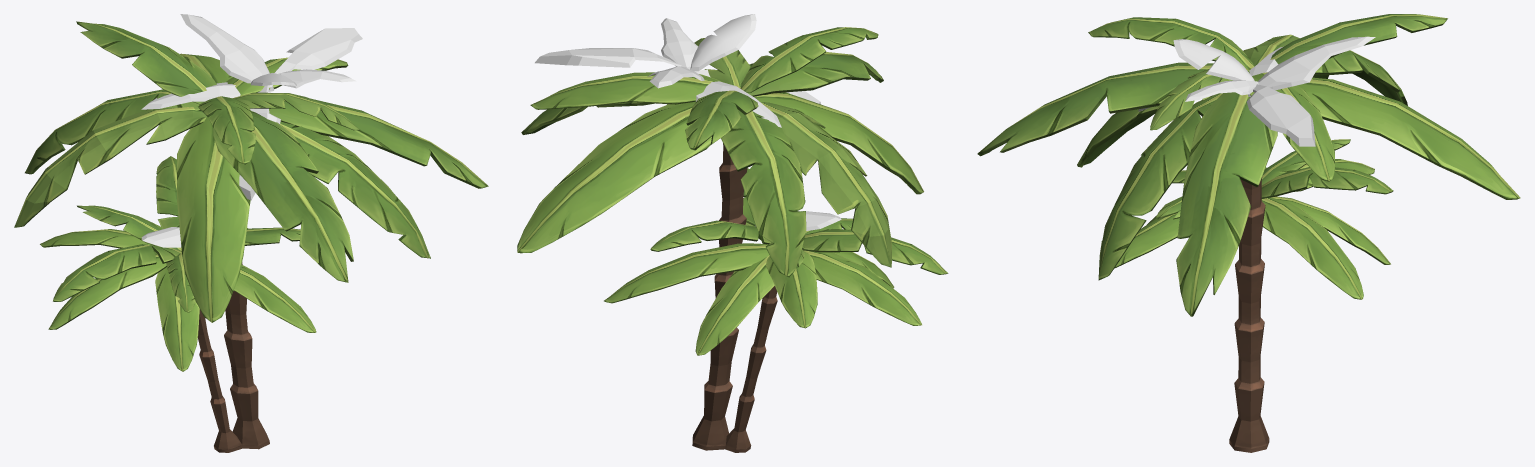
File: yazasu1_snow.FBX
3 views of the same model, side by side, from view 1: azimuth 30°, elevation 25°; view 2: azimuth 150°, elevation 25°; view 3: azimuth 270°, elevation 25° (orthographic). The views are drawn at different scales.
Visible parts, largest first — view 1: Cylinder005, Object005; view 2: Cylinder005, Object005; view 3: Cylinder005, Object005.
Boxes of the visible parts, <box> form: Cylinder005: <box>14,21,488,452</box>; Object005: <box>141,14,362,247</box>; Cylinder005: <box>517,27,948,452</box>; Object005: <box>535,14,841,230</box>; Cylinder005: <box>977,14,1520,452</box>; Object005: <box>1138,36,1375,146</box>.
Size of the model in its own units: 182 by 159 by 194.
